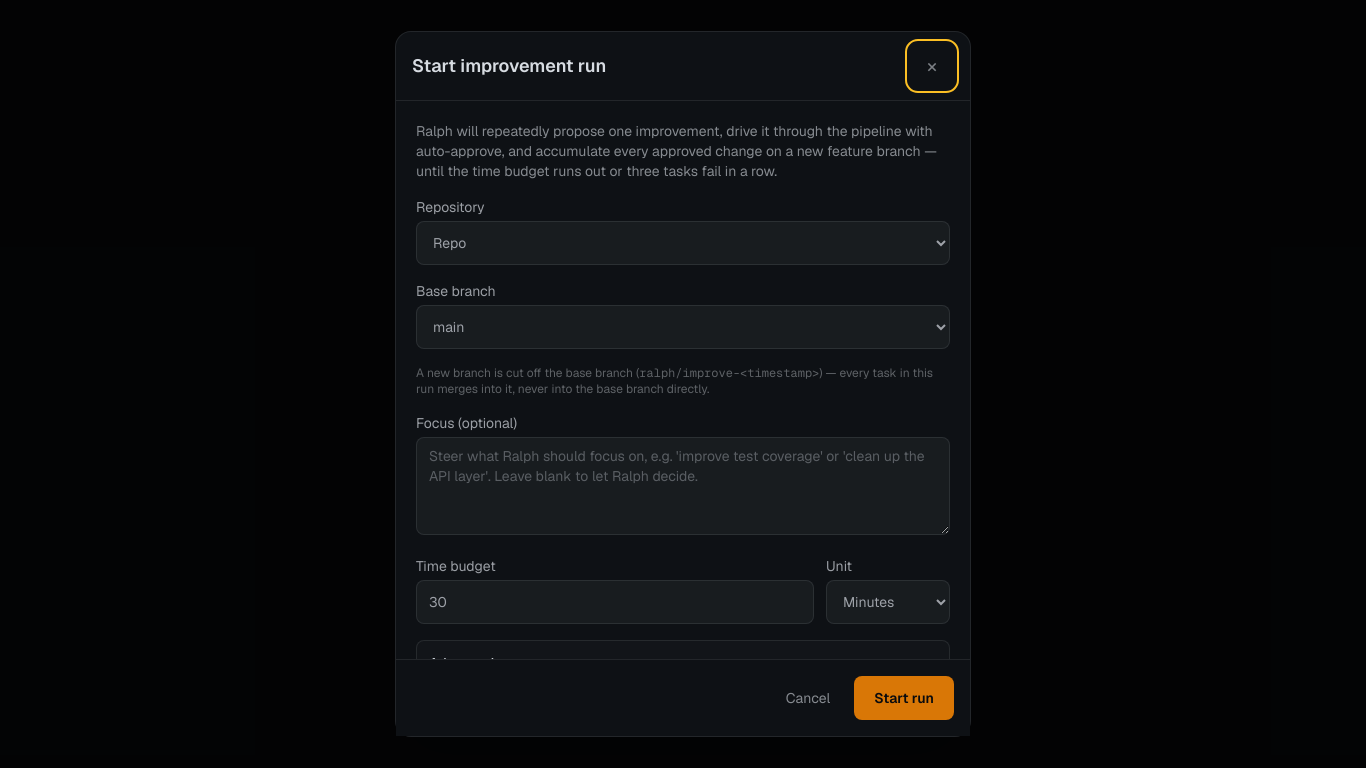
Test case: ImprovementRunDialog › disables Start run until a positive budget and base branch are set
The image size is (1366, 768).
Check: the dropdown labelled "Base branch" shows "main", box [416,305,950,349]
Check: the button "Start run" is enabled, box [854,676,954,720]
Clear the number field labelled "Time budget" at {"x": 615, "y": 602}, box [416,580,814,624]
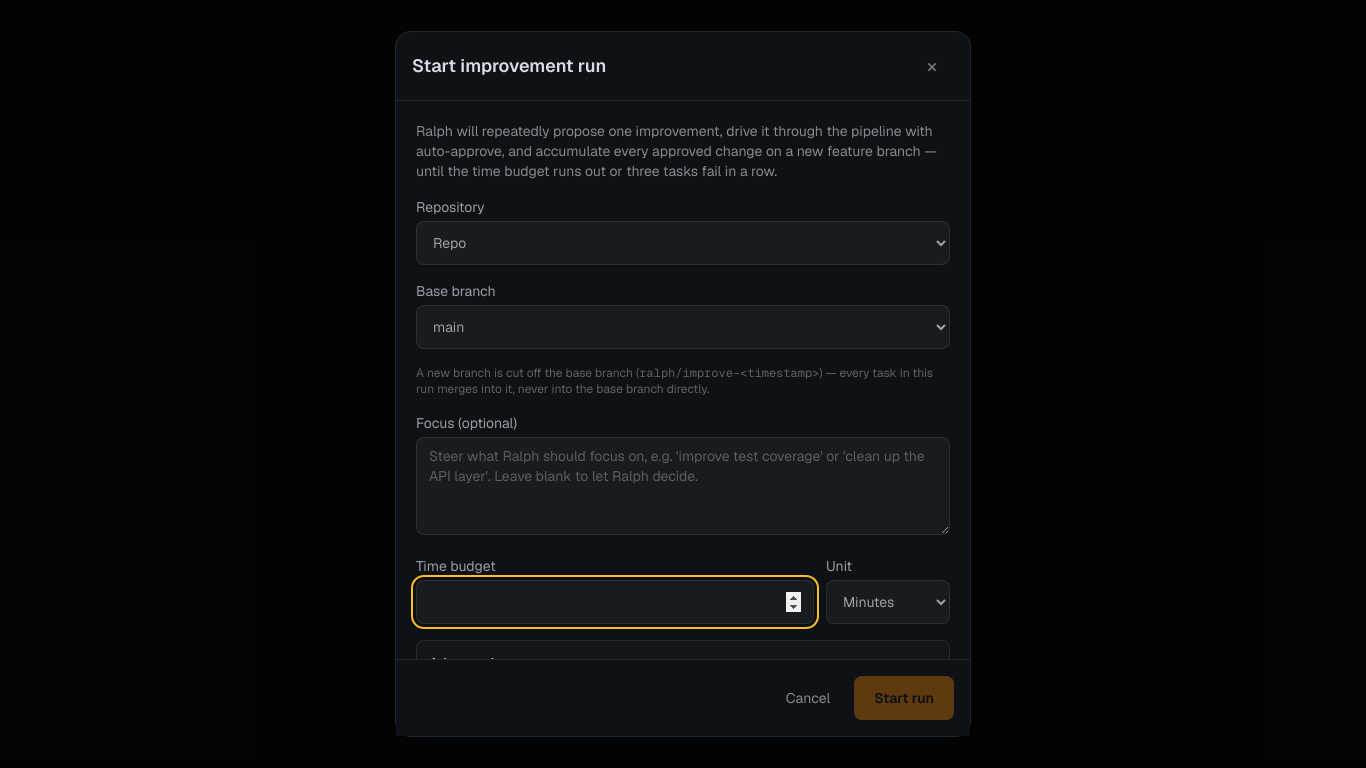
Check: the button "Start run" is disabled, box [854,676,954,720]
Type "0" into the number field labelled "Time budget" at {"x": 615, "y": 602}, box [416,580,814,624]
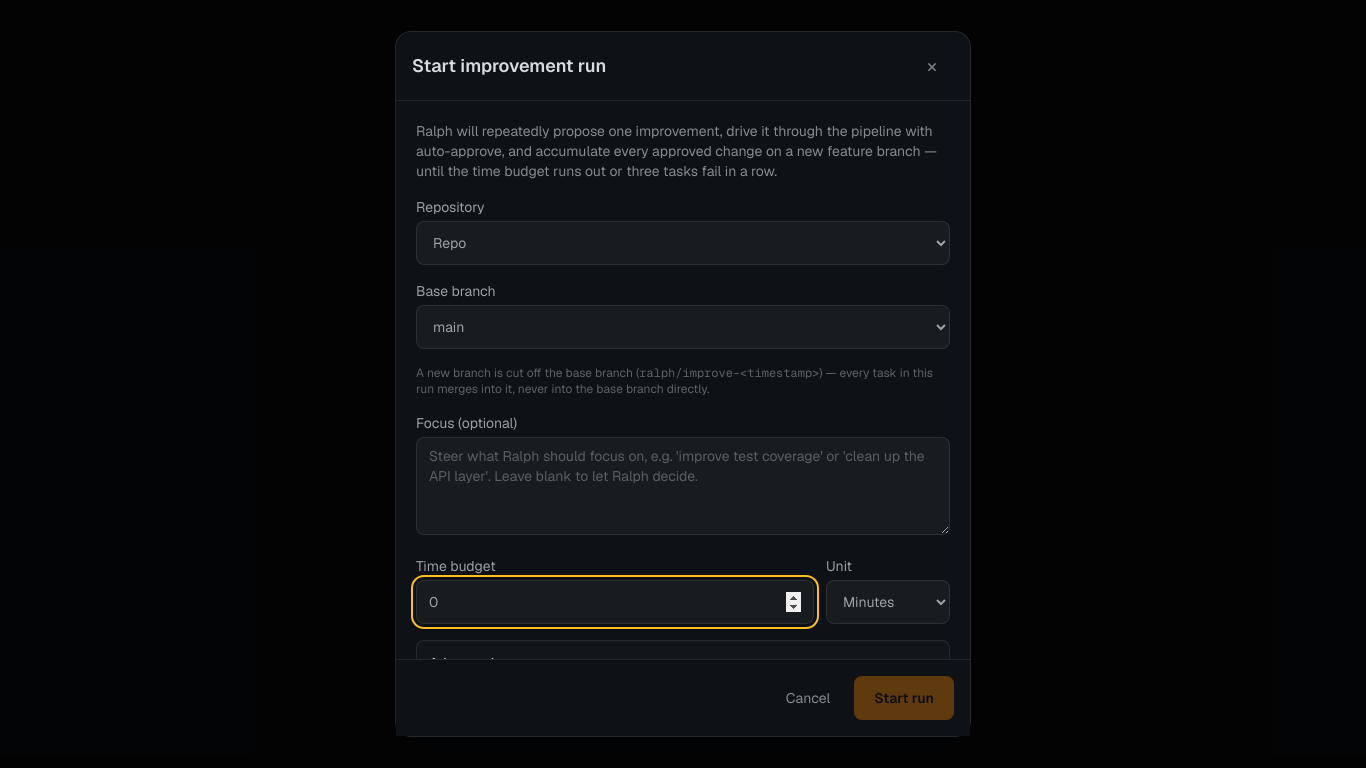
Check: the button "Start run" is disabled, box [854,676,954,720]
Replace the text in the number field labelled "Time budget" with "45" at {"x": 615, "y": 602}, box [416,580,814,624]
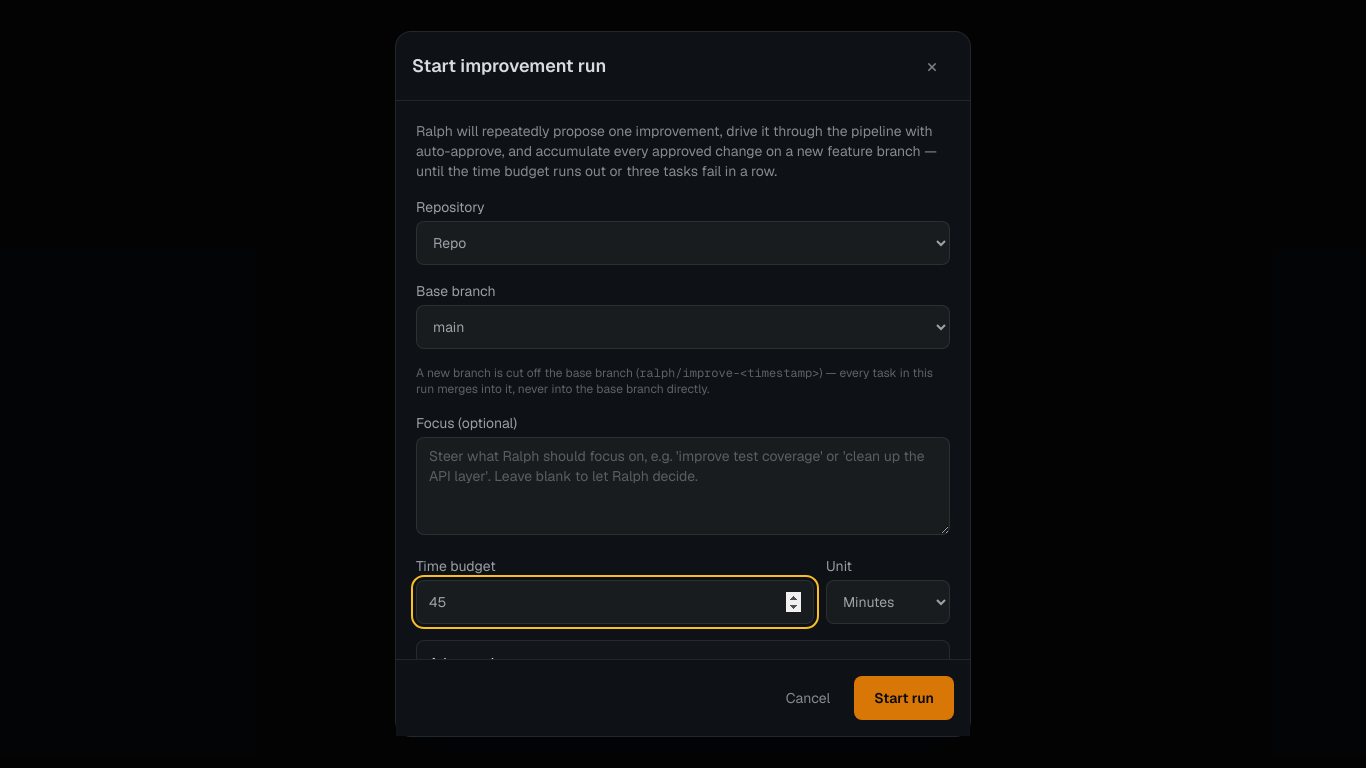
Check: the button "Start run" is enabled, box [854,676,954,720]
